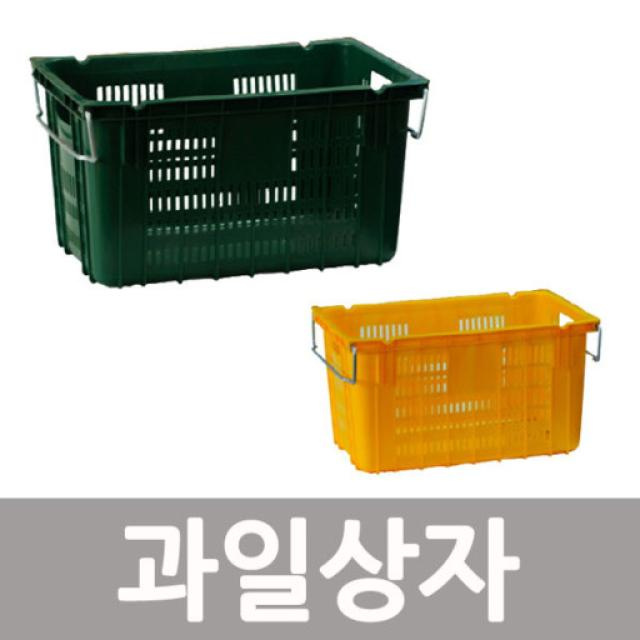basket: (32, 21, 446, 292)
